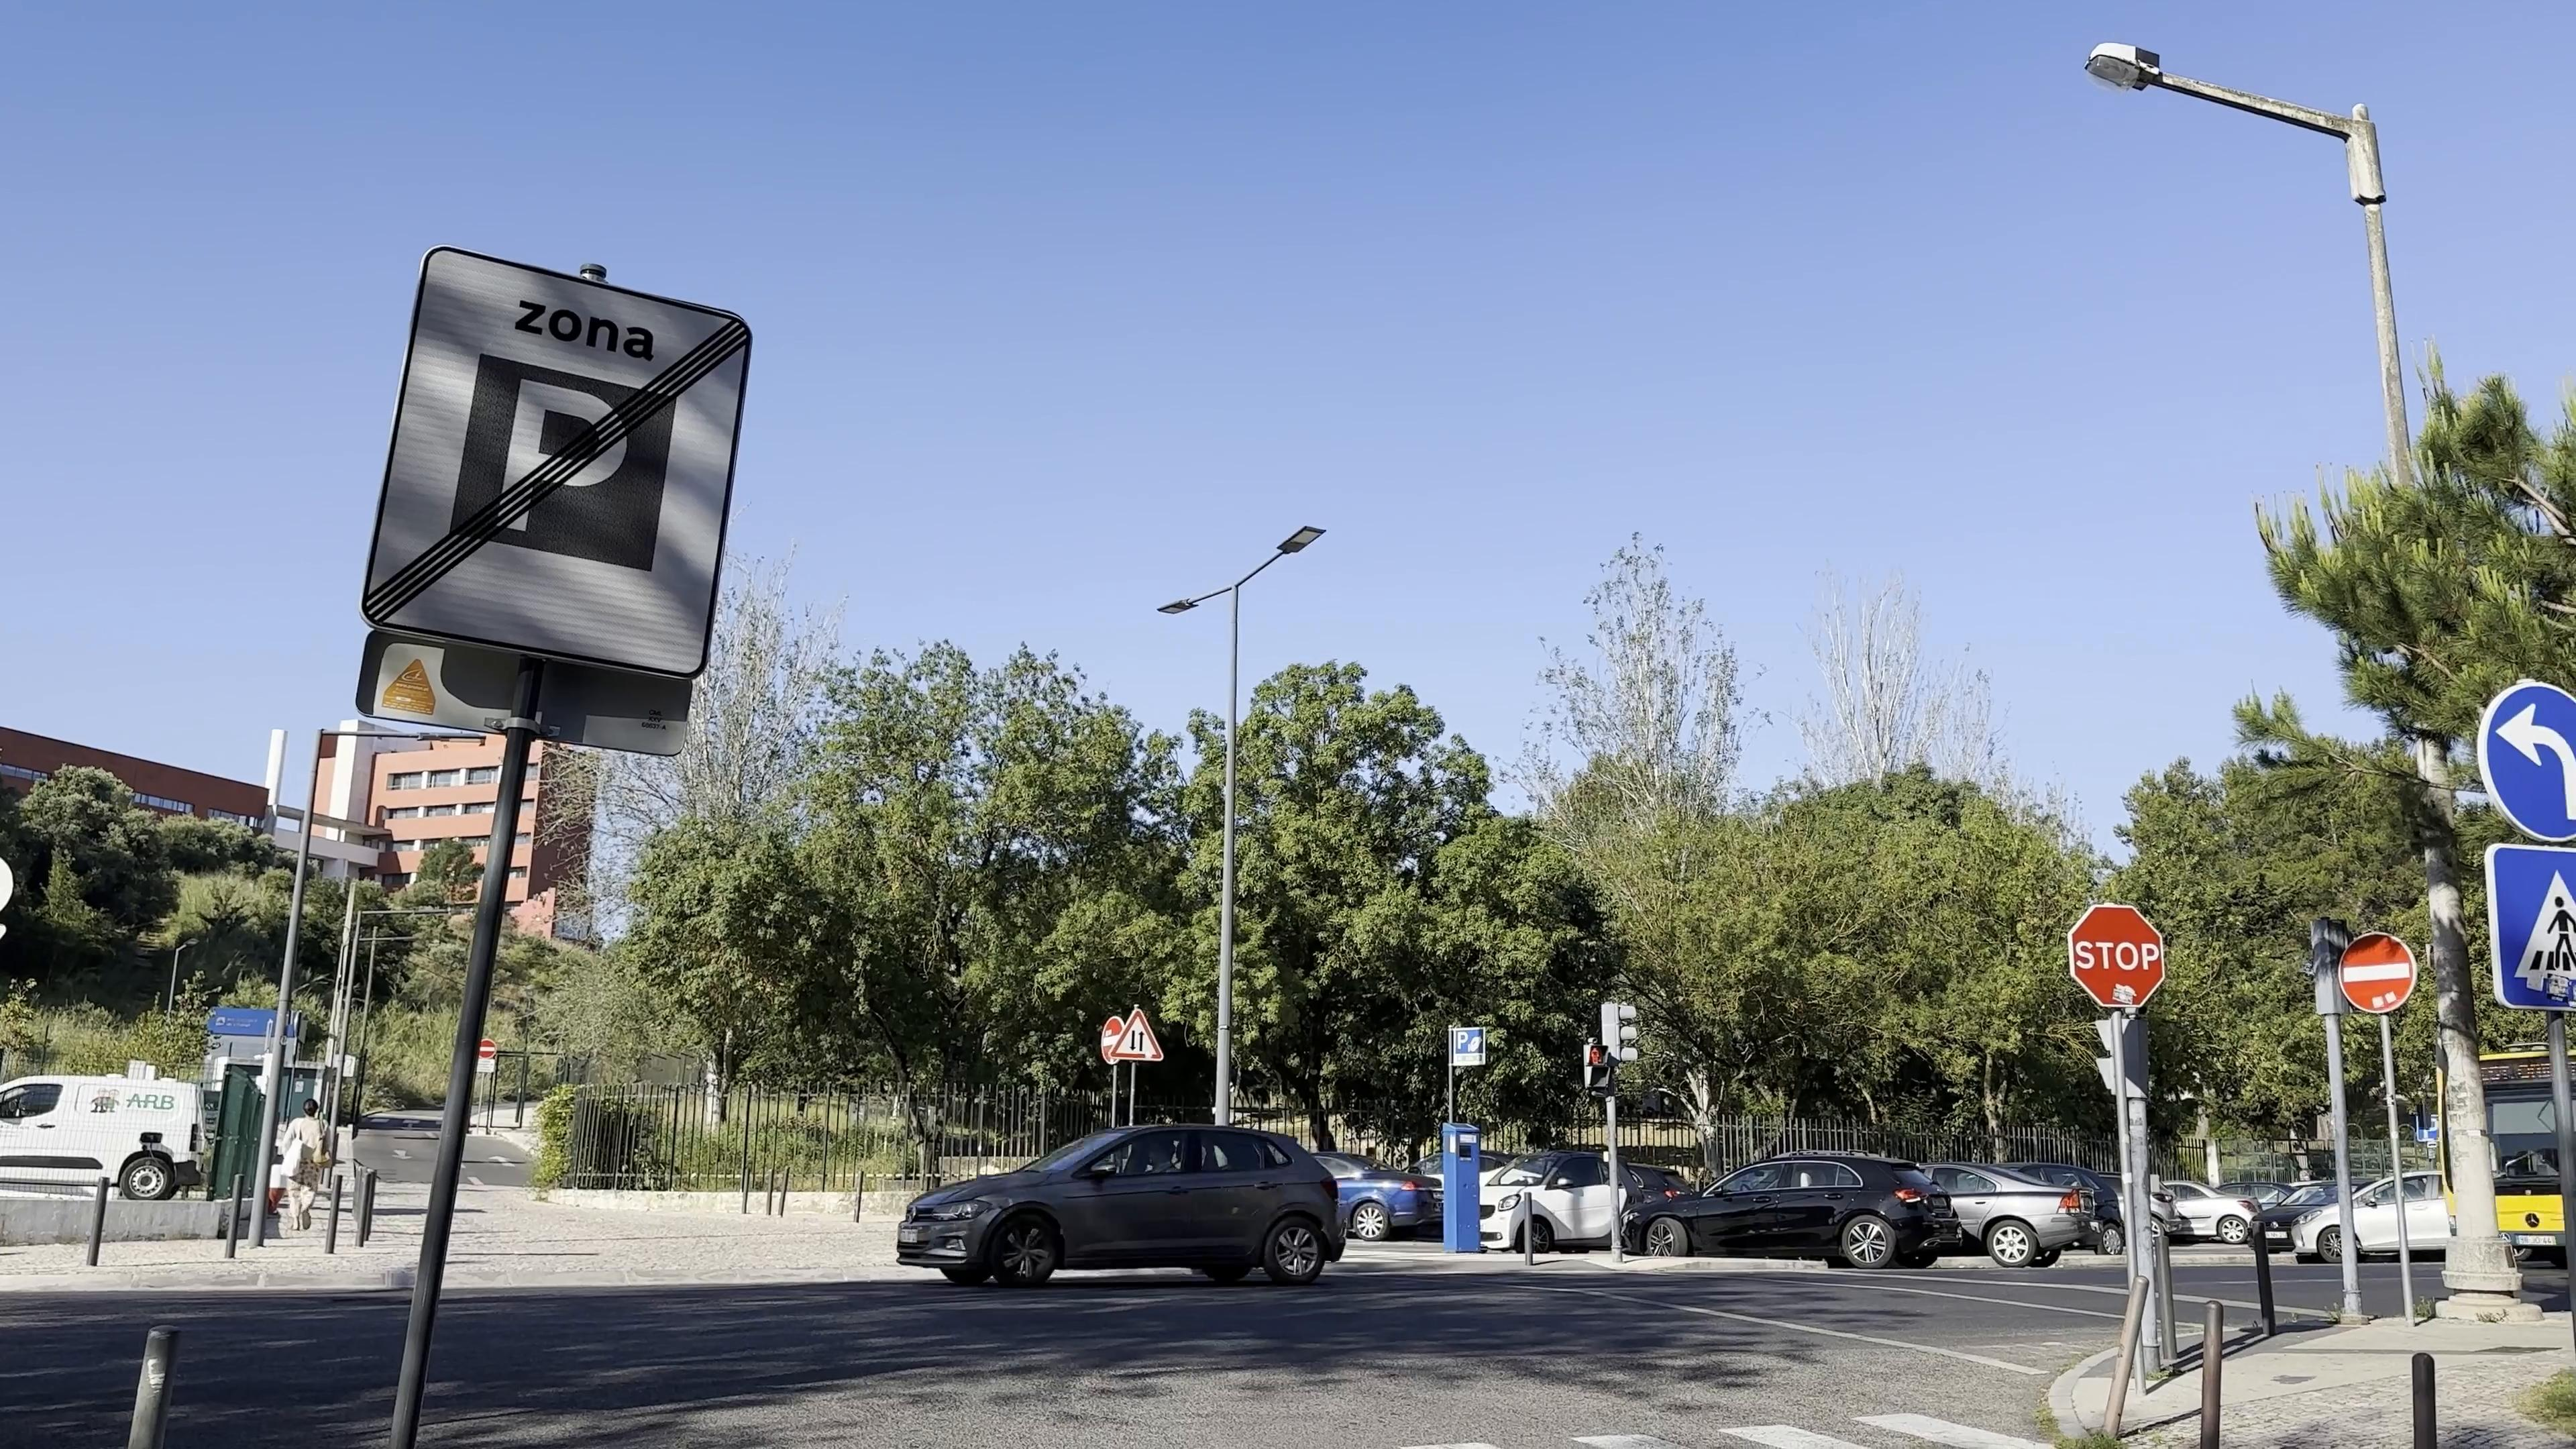fim de zona de estacionamento autorizado: (354, 242, 764, 688)
